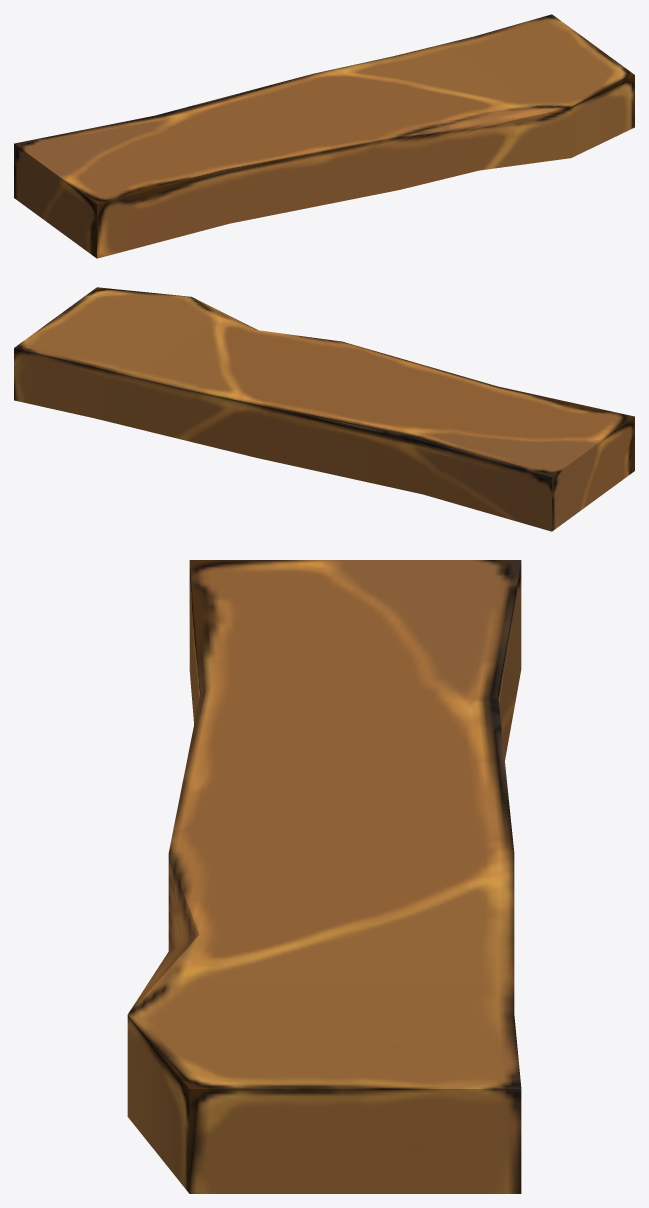
File: Moonset_FBX_dalle_07.fbx
3 views of the same model, one above another, from view 1: azimuth 30°, elevation 25°; view 2: azimuth 150°, elevation 25°; view 3: azimuth 270°, elevation 25° (orthographic). The views are drawn at different scales.
Visible parts, largest first — view 1: Dalle_07; view 2: Dalle_07; view 3: Dalle_07.
Part boxes in pixels (x1,y1,x2,y2): Dalle_07: (14,14,634,258); Dalle_07: (14,287,634,531); Dalle_07: (127,560,521,1193).
Bounding box in the file's own units: 5.37 × 0.5191 × 1.7.
